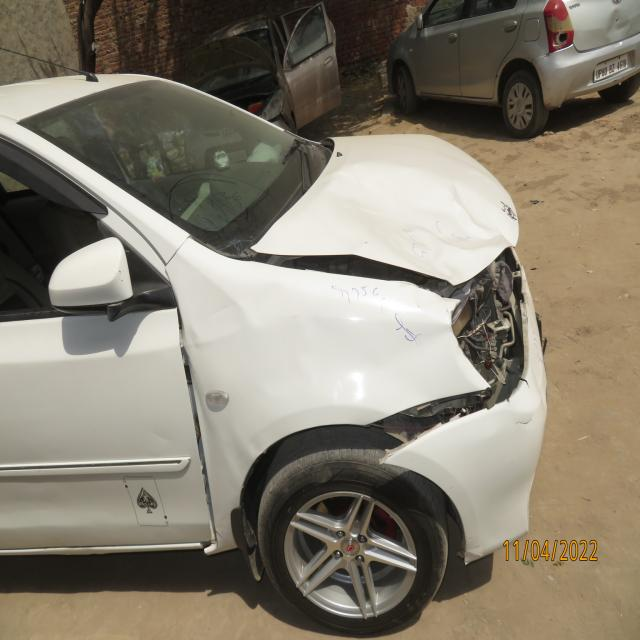damage: (180, 246, 475, 424), (366, 202, 513, 274), (497, 295, 538, 410), (509, 413, 542, 437), (513, 373, 536, 397), (115, 268, 124, 286)
